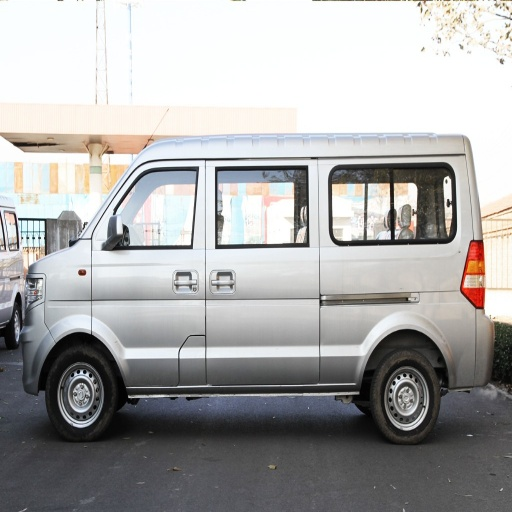back_left_door: (206, 161, 259, 331), (367, 166, 420, 217)
back_left_light: (460, 242, 485, 309)
trunk: (275, 293, 472, 383)
